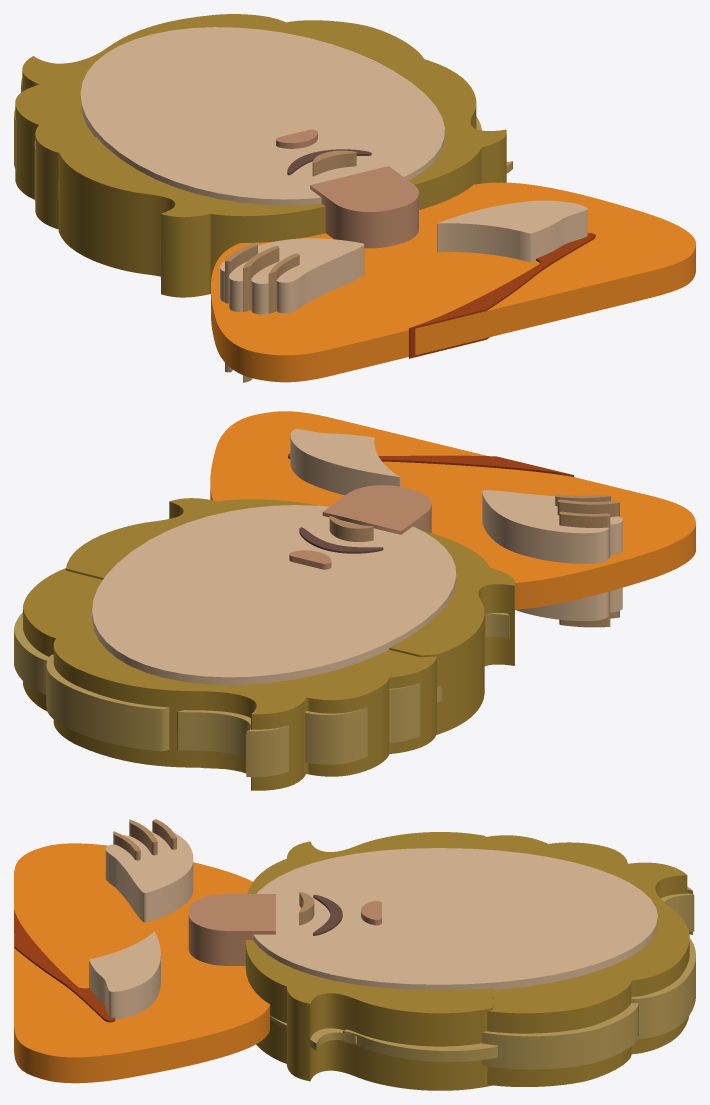
Rendered from emoji_u1f64e_1f3fc.glb.
3 views of the same model, one above another, from view 1: azimuth 30°, elevation 25°; view 2: azimuth 150°, elevation 25°; view 3: azimuth 270°, elevation 25° (orthographic). The views are drawn at different scales.
Visible parts, largest first — view 1: emoji_u1f64e_1f3fc; view 2: emoji_u1f64e_1f3fc; view 3: emoji_u1f64e_1f3fc.
Part boxes in pixels (<box>): emoji_u1f64e_1f3fc: <box>14,14,695,382</box>; emoji_u1f64e_1f3fc: <box>14,411,695,790</box>; emoji_u1f64e_1f3fc: <box>14,819,695,1090</box>.
Size of the model in its own units: 0.0249 by 0.0062 by 0.0335.
